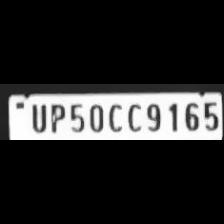0: (86, 102, 104, 132)
1: (164, 100, 181, 132)
5: (66, 100, 86, 134), (200, 99, 220, 131)
6: (180, 99, 200, 131)
9: (143, 100, 163, 132)
C: (104, 100, 124, 132), (124, 100, 142, 132)
P: (47, 101, 65, 133)
U: (27, 102, 47, 132)
